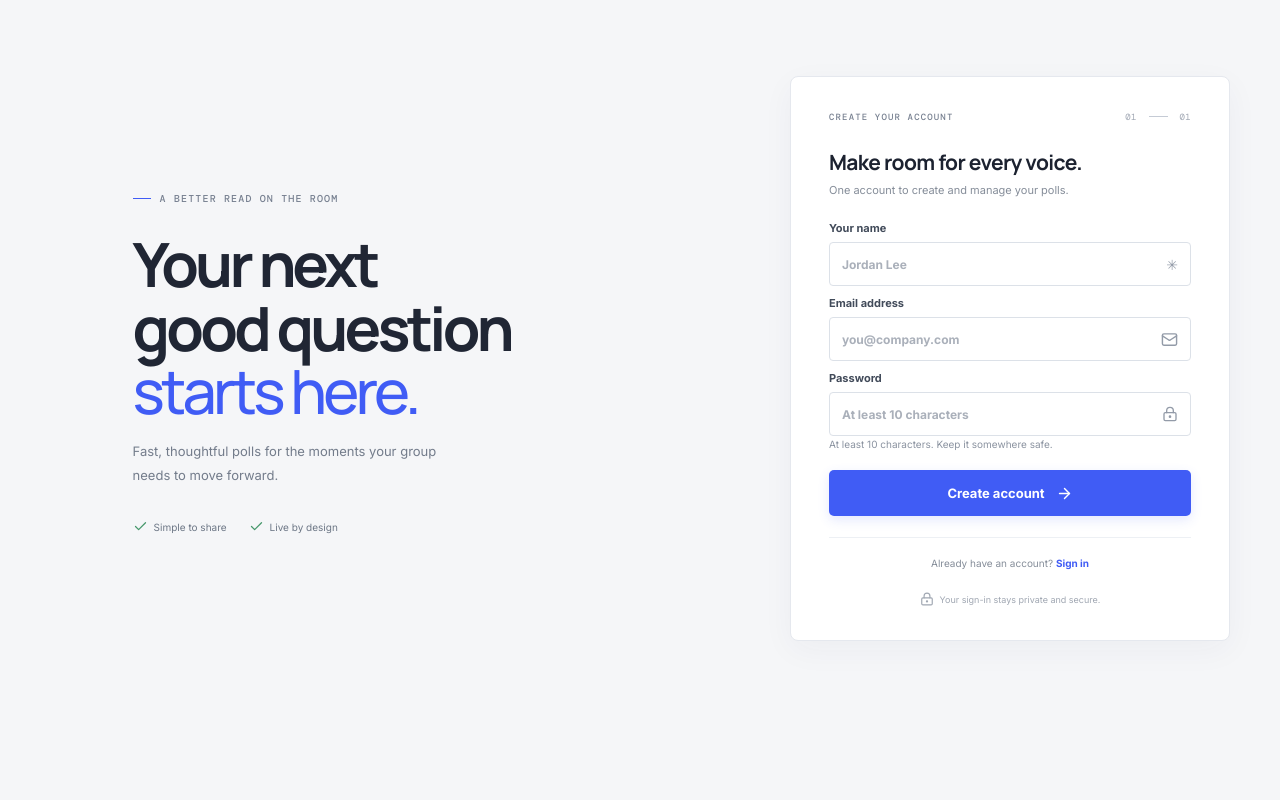
Scenario: AuthPage signup form › rejects malformed email addresses
Type "Alex Doe" into the field labelled "Your name ✳".
click(1010, 264); type("Alex Doe")  # box [829,242,1191,286]
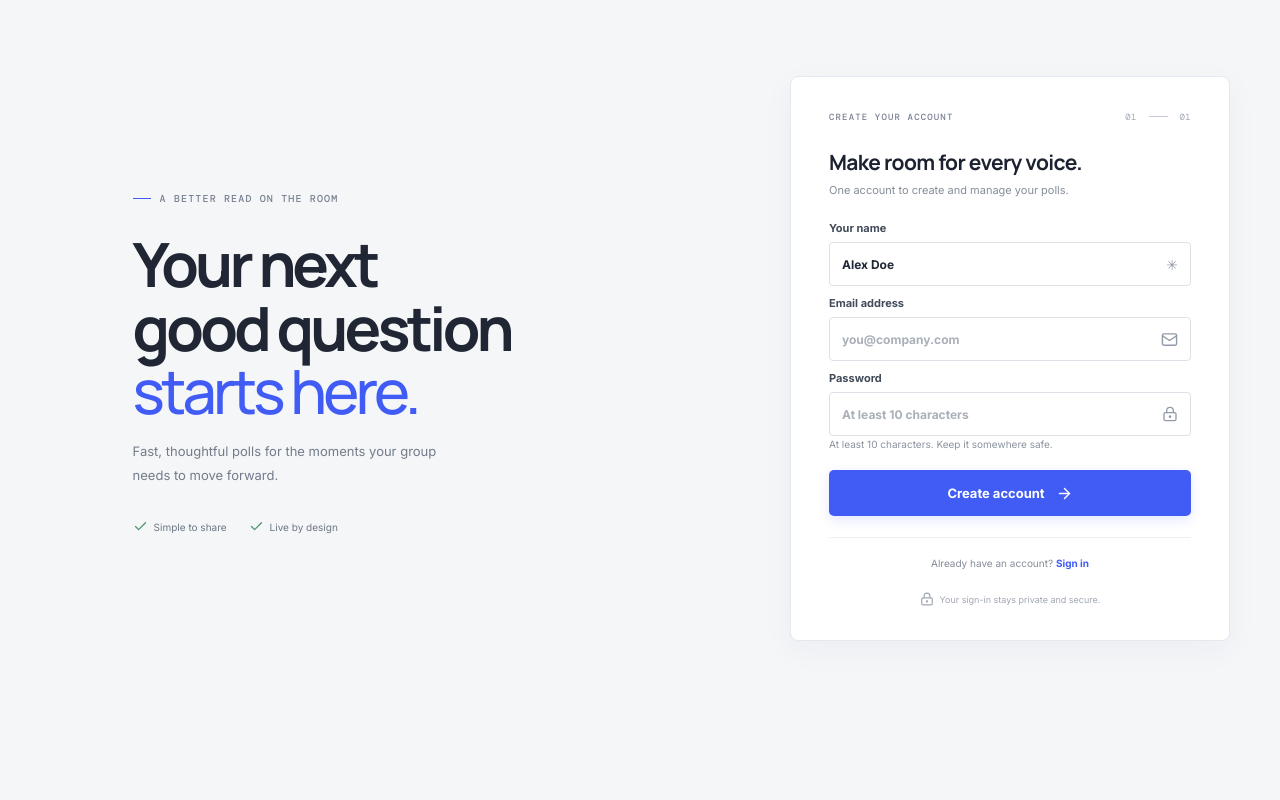
Type "not-an-email" into the field labelled "Email address".
click(1010, 339); type("not-an-email")  # box [829,317,1191,361]
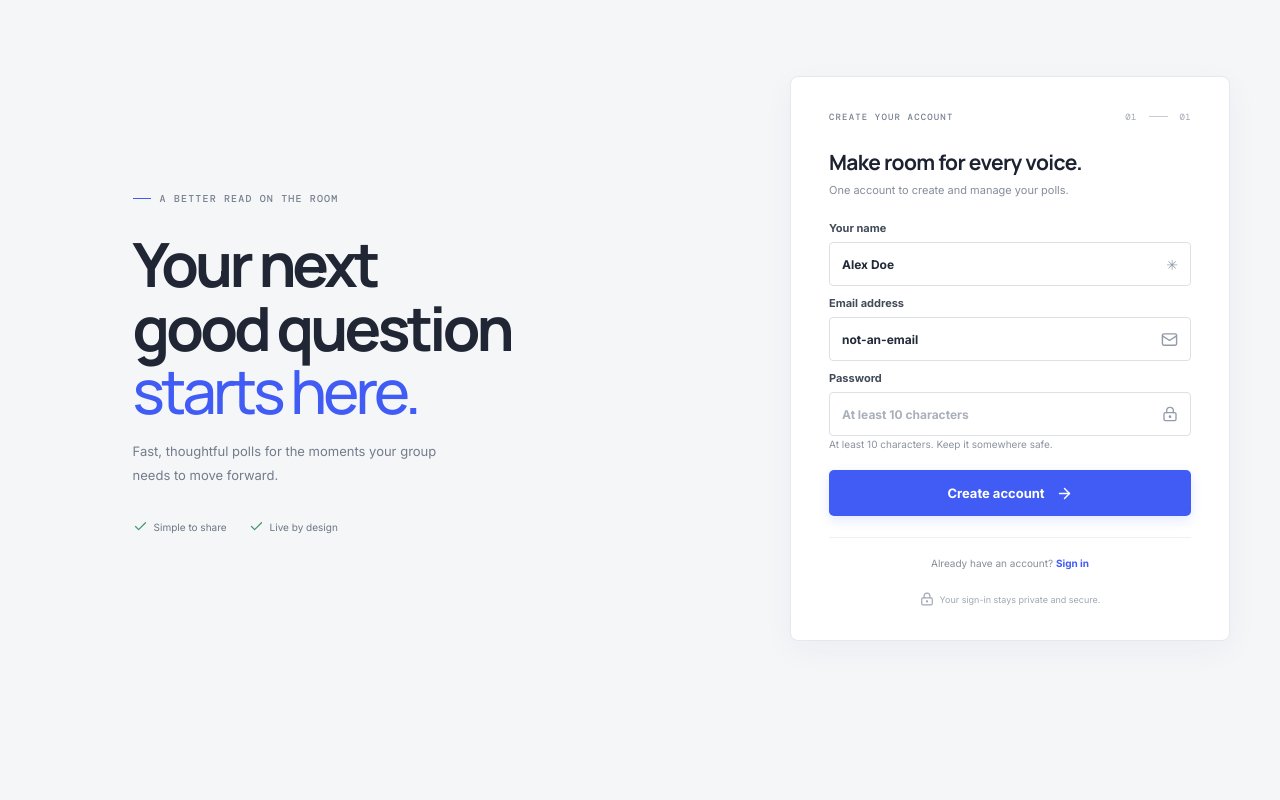
Type "correct-horse-battery" into the password field labelled "Password".
click(1010, 414); type("correct-horse-battery")  # box [829,392,1191,436]
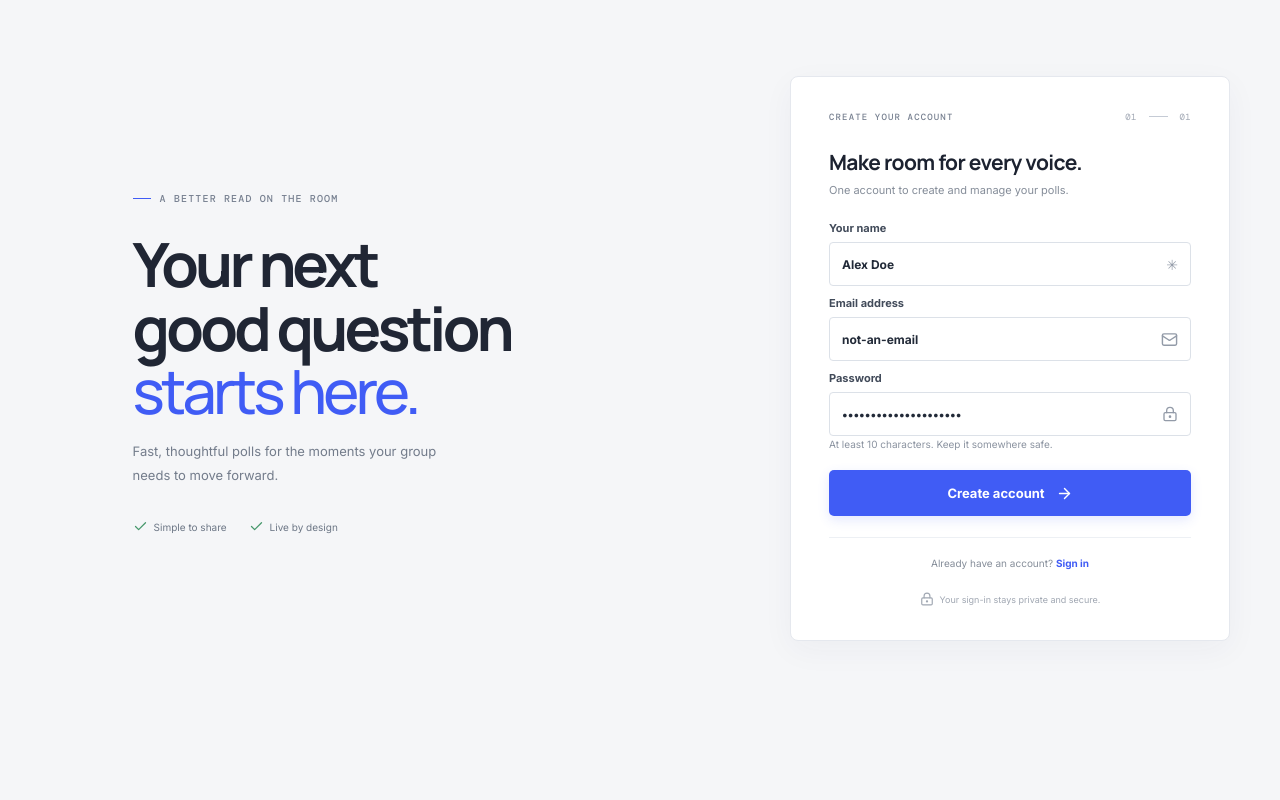
Click the button "Create account".
click(1010, 493)  # box [829,470,1191,516]
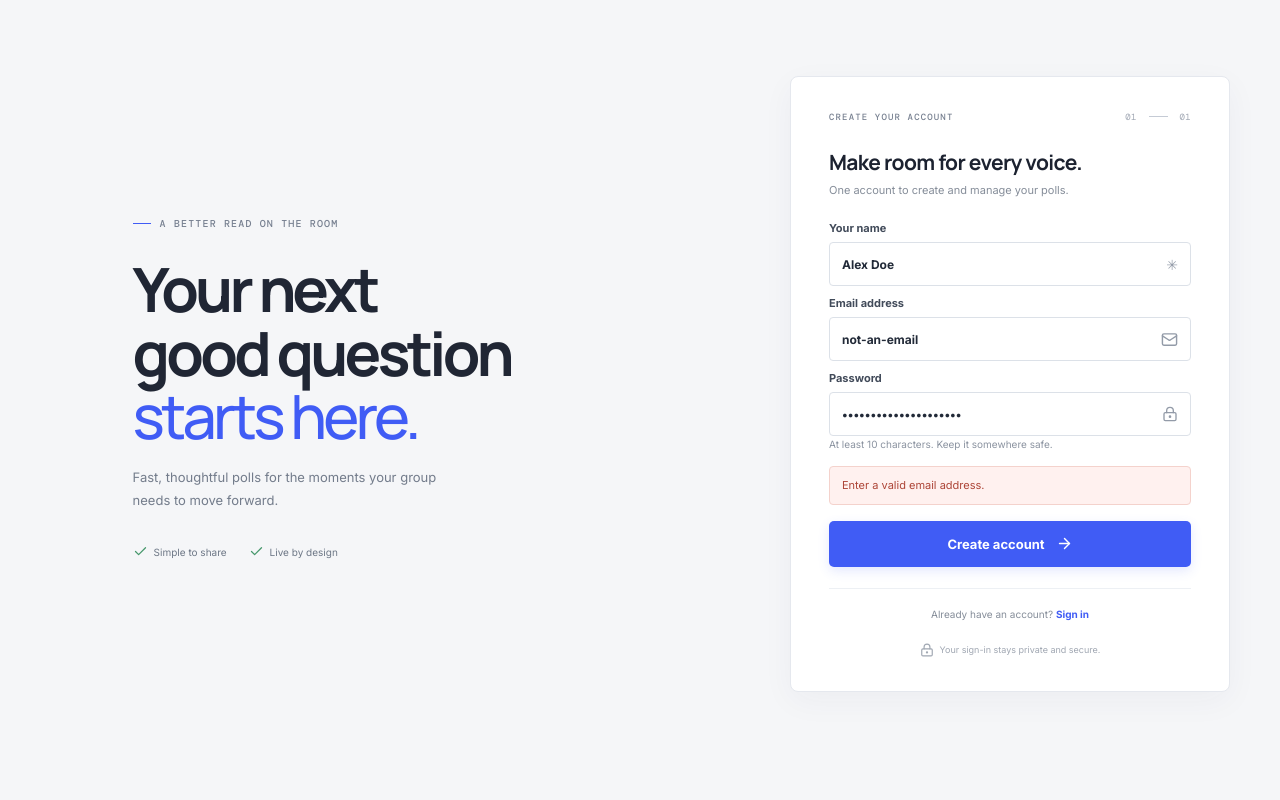
Expected: the message shows "valid email", [842,478,984,492]
